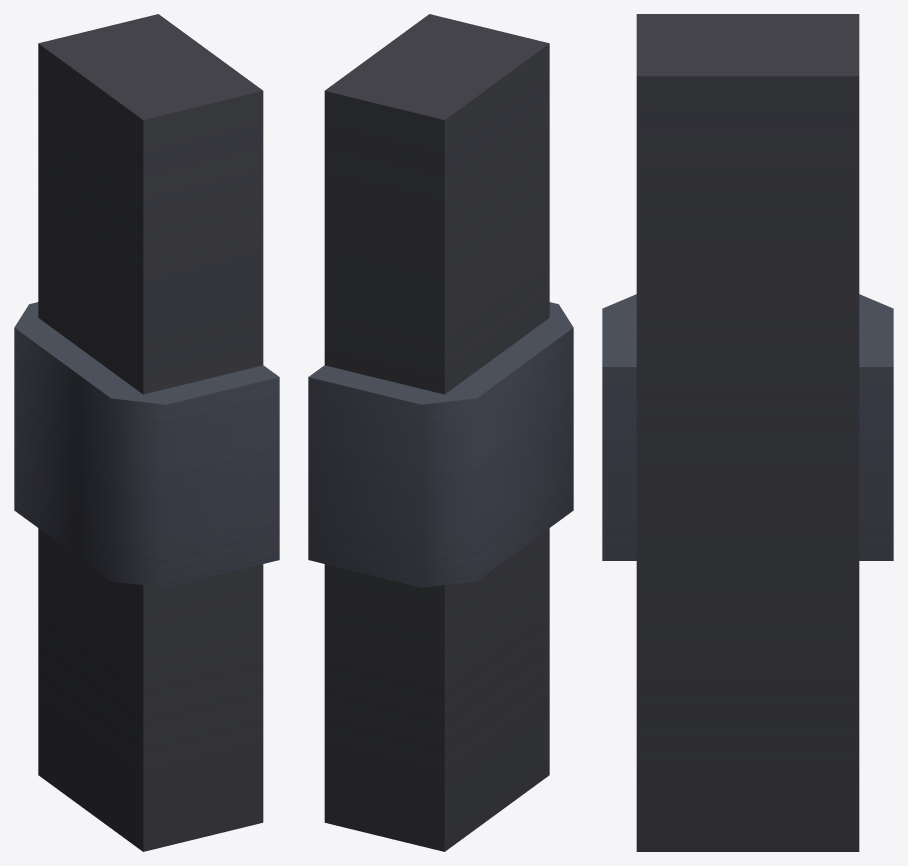
File: chimney.glb
3 views of the same model, side by side, from view 1: azimuth 30°, elevation 25°; view 2: azimuth 150°, elevation 25°; view 3: azimuth 270°, elevation 25° (orthographic). The views are drawn at different scales.
Parts seen in each view (by area): view 1: chimney; view 2: chimney; view 3: chimney.
Boxes of the visible parts, x1,y1,x2,y2 form: chimney: (14,14,279,851); chimney: (308,14,573,851); chimney: (602,14,893,851).
Size of the model in its own units: 0.2119 by 1 by 0.34.
1 material, 1 textured.
